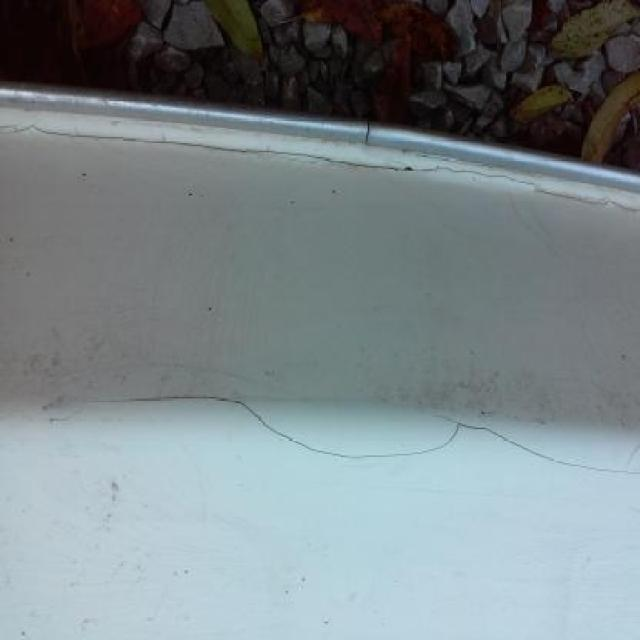crack: (247, 405, 456, 456), (458, 422, 640, 476), (415, 169, 640, 211), (2, 126, 256, 151), (257, 149, 412, 171), (88, 394, 241, 403)
